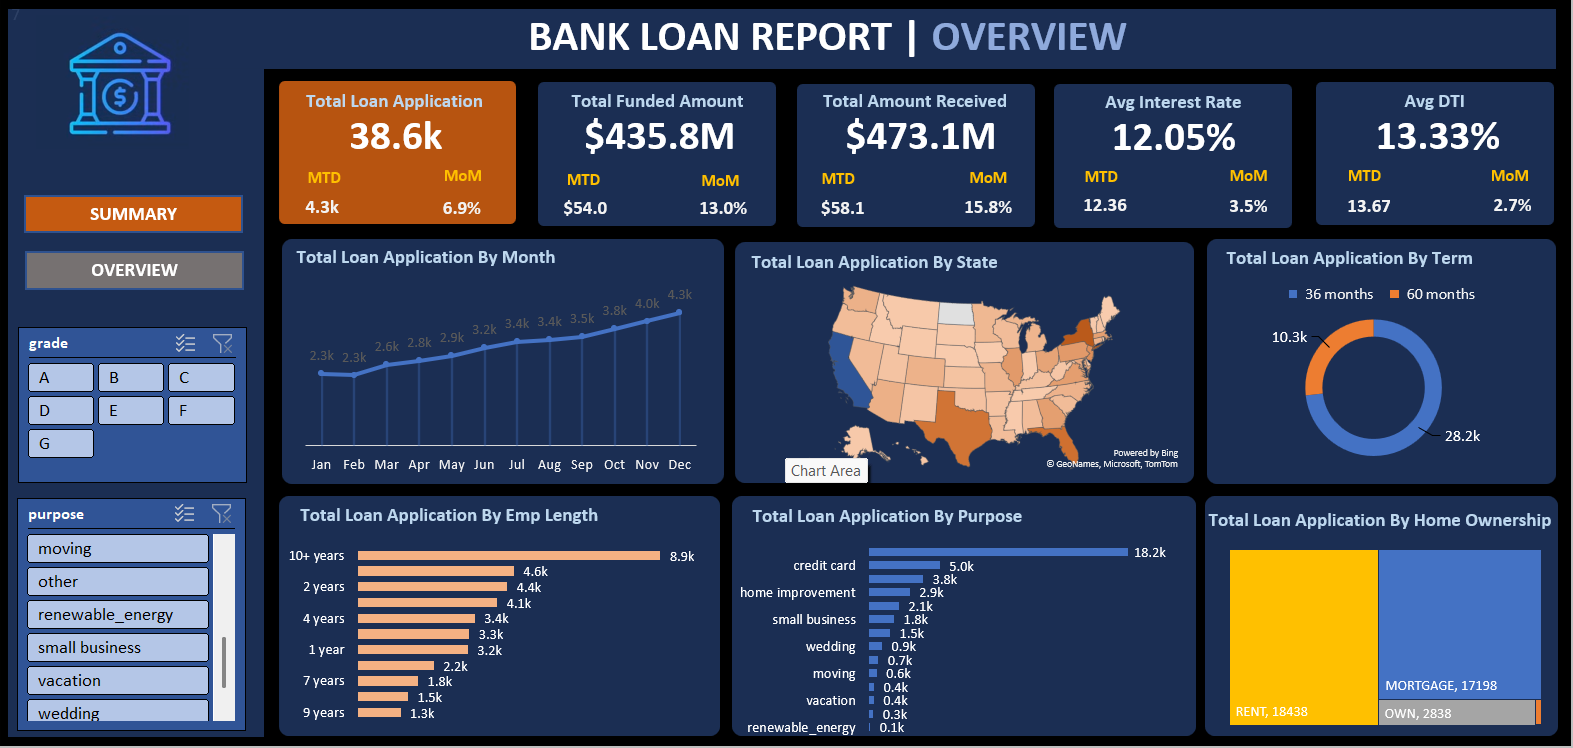

Layout of this report page (visuals, bound fields, positions):
{"tool":"powerbi","page":{"name":"Overview","canvas":[1280,720],"ordinal":1},"visuals":[{"type":"shape","box":[206.3,76,195.4,117],"z":0,"group":"g1"},{"type":"shape","box":[422,76,195.4,117],"z":0,"group":"g2"},{"type":"shape","box":[637.6,76,195.4,117],"z":0,"group":"g3"},{"type":"shape","box":[853.3,76,195.4,117],"z":0,"group":"g4"},{"type":"shape","box":[1068.9,76,195.4,117],"z":0,"group":"g5"},{"type":"shape","box":[206.3,212.3,400,235],"z":0},{"type":"shape","box":[0,0,1280.3,59],"z":1000},{"type":"card","fields":{"Values":["DAX Measures.Total Loan Application"]},"box":[206.3,92.9,195.4,59.1],"z":1000,"group":"g1"},{"type":"card","fields":{"Values":["DAX Measures.Total Funded Amount"]},"box":[422,92.9,195.4,59.1],"z":1000,"group":"g2"},{"type":"card","fields":{"Values":["DAX Measures.Total Amount Received"]},"box":[637.6,92.9,195.4,59.1],"z":1000,"group":"g3"},{"type":"card","fields":{"Values":["DAX Measures.Average Interest Rate"]},"box":[853.3,92.9,195.4,59.1],"z":1000,"group":"g4"},{"type":"card","fields":{"Values":["DAX Measures.Average DTI"]},"box":[1068.9,92.9,195.4,59.1],"z":1000,"group":"g5"},{"type":"shape","box":[0,59.1,192,661.1],"z":2000},{"type":"textbox","box":[206.3,76,195.4,33.8],"z":2000,"group":"g1"},{"type":"textbox","box":[422,76,195.4,33.8],"z":2000,"group":"g2"},{"type":"textbox","box":[637.6,76,195.4,33.8],"z":2000,"group":"g3"},{"type":"textbox","box":[853.3,76,195.4,33.8],"z":2000,"group":"g4"},{"type":"textbox","box":[1068.9,76,195.4,33.8],"z":2000,"group":"g5"},{"type":"textbox","box":[415,3.6,448.8,50.7],"z":3000},{"type":"card","title":"MTD","fields":{"Values":["DAX Measures.MTD Loan Application"]},"box":[206.3,143.6,76,49.5],"z":3000,"group":"g1"},{"type":"card","title":"MTD","fields":{"Values":["DAX Measures.MTD Funded Amount"]},"box":[422,143.6,76,49.5],"z":3000,"group":"g2"},{"type":"card","title":"MTD","fields":{"Values":["DAX Measures.MTD Total Amount Received"]},"box":[637.6,143.6,76,49.5],"z":3000,"group":"g3"},{"type":"card","title":"MTD","fields":{"Values":["DAX Measures.MTD Avg Int Rate"]},"box":[853.3,143.6,76,49.5],"z":3000,"group":"g4"},{"type":"card","title":"MTD","fields":{"Values":["DAX Measures.MTD Avg DTI"]},"box":[1068.9,143.6,76,49.5],"z":3000,"group":"g5"},{"type":"group","id":"g1","title":"Group 1","box":[206.3,76,195.4,117],"z":4000},{"type":"card","title":"MoM","fields":{"Values":["DAX Measures.MoM Loan Application"]},"box":[328.2,143.6,73.6,49.5],"z":4000,"group":"g1"},{"type":"card","title":"MoM","fields":{"Values":["DAX Measures.MoM Funded Amount"]},"box":[543.9,143.6,73.6,49.5],"z":4000,"group":"g2"},{"type":"card","title":"MoM","fields":{"Values":["DAX Measures.MoM Total Amount Received"]},"box":[759.5,143.6,73.6,49.5],"z":4000,"group":"g3"},{"type":"card","title":"MoM","fields":{"Values":["DAX Measures.MoM Avg Int Rate"]},"box":[975.2,143.6,73.6,49.5],"z":4000,"group":"g4"},{"type":"card","title":"MoM","fields":{"Values":["DAX Measures.MoM AVG DTI"]},"box":[1190.8,143.6,73.6,49.5],"z":4000,"group":"g5"},{"type":"group","id":"g2","title":"Group 1","box":[422,76,195.4,117],"z":5000},{"type":"group","id":"g3","title":"Group 1","box":[637.6,76,195.4,117],"z":6000},{"type":"group","id":"g4","title":"Group 1","box":[853.3,76,195.4,117],"z":7000},{"type":"group","id":"g5","title":"Group 1","box":[1068.9,76,195.4,117],"z":8000},{"type":"shape","box":[0,58.9,192,661.1],"z":9000},{"type":"slicer","fields":{"Values":["bank_loan_data.address_state"]},"box":[7.2,468.6,174.9,49.5],"z":10000},{"type":"textbox","box":[7.2,436,88.1,33.8],"z":11000},{"type":"slicer","fields":{"Values":["bank_loan_data.grade"]},"box":[7.2,559.1,174.9,49.5],"z":12000},{"type":"textbox","box":[7.2,525.3,88.1,33.8],"z":13000},{"type":"slicer","fields":{"Values":["bank_loan_data.Good v/s Bad Loan"]},"box":[7.2,654.4,174.9,49.5],"z":14000},{"type":"textbox","box":[7.2,620.6,174.9,33.8],"z":15000},{"type":"areaChart","fields":{"Y":["DAX Measures.Total Loan Application"],"Category":["Date Table.Month"]},"box":[206.3,212.3,388.5,235.3],"z":16000},{"type":"slicer","fields":{"Values":["Select Measure.Select Measure"]},"box":[8.4,372.1,174.9,51.9],"z":17000},{"type":"textbox","box":[7.2,338.3,147.2,33.8],"z":18000},{"type":"shape","box":[617.7,212.3,360,235.3],"z":19000},{"type":"shapeMap","fields":{"Value":["DAX Measures.Total Loan Application"],"Category":["bank_loan_data.address_state"]},"box":[617.7,212.3,357.1,235.3],"z":20000},{"type":"shape","box":[988.1,211.1,276.3,235.3],"z":21000},{"type":"donutChart","fields":{"Y":["DAX Measures.Total Loan Application"],"Category":["bank_loan_data.term"]},"box":[988.1,212.3,276.3,235.3],"z":22000},{"type":"shape","box":[206.3,458.4,400.5,252.1],"z":23000},{"type":"barChart","fields":{"Y":["DAX Measures.Total Loan Application"],"Category":["bank_loan_data.emp_length"]},"box":[206.3,459.7,400.5,250.9],"z":24000},{"type":"shape","box":[617.7,458.4,360.7,252.1],"z":25000},{"type":"barChart","fields":{"Y":["DAX Measures.Total Loan Application"],"Category":["bank_loan_data.purpose"]},"box":[617.7,460.9,357.1,250.9],"z":26000},{"type":"shape","box":[988.1,458.4,276.3,252.1],"z":27000},{"type":"treemap","fields":{"Values":["DAX Measures.Total Loan Application"],"Group":["bank_loan_data.home_ownership"]},"box":[988.1,458.4,276.3,252.1],"z":28000},{"type":"pageNavigator","box":[7.2,162.9,174.9,166.5],"z":28001},{"type":"image","box":[0,0,183.4,143.6],"z":28002}]}

Visuals, with their boxes on the page's 1280x720 design canvas (x1, y1, x2, y2). These are canvas units, not pixel positions in the 1573x748 screenshot, which may show the page scaled, cropped or inside an application window:
shape: 206,76,402,193
shape: 422,76,617,193
shape: 638,76,833,193
shape: 853,76,1049,193
shape: 1069,76,1264,193
shape: 206,212,606,447
shape: 0,0,1280,59
card - DAX Measures.Total Loan Application: 206,93,402,152
card - DAX Measures.Total Funded Amount: 422,93,617,152
card - DAX Measures.Total Amount Received: 638,93,833,152
card - DAX Measures.Average Interest Rate: 853,93,1049,152
card - DAX Measures.Average DTI: 1069,93,1264,152
shape: 0,59,192,720
textbox: 206,76,402,110
textbox: 422,76,617,110
textbox: 638,76,833,110
textbox: 853,76,1049,110
textbox: 1069,76,1264,110
textbox: 415,4,864,54
"MTD" card: 206,144,282,193
"MTD" card: 422,144,498,193
"MTD" card: 638,144,714,193
"MTD" card: 853,144,929,193
"MTD" card: 1069,144,1145,193
"Group 1" group: 206,76,402,193
"MoM" card: 328,144,402,193
"MoM" card: 544,144,618,193
"MoM" card: 760,144,833,193
"MoM" card: 975,144,1049,193
"MoM" card: 1191,144,1264,193
"Group 1" group: 422,76,617,193
"Group 1" group: 638,76,833,193
"Group 1" group: 853,76,1049,193
"Group 1" group: 1069,76,1264,193
shape: 0,59,192,720
slicer - bank_loan_data.address_state: 7,469,182,518
textbox: 7,436,95,470
slicer - bank_loan_data.grade: 7,559,182,609
textbox: 7,525,95,559
slicer - bank_loan_data.Good v/s Bad Loan: 7,654,182,704
textbox: 7,621,182,654
areaChart - DAX Measures.Total Loan Application x Date Table.Month: 206,212,595,448
slicer - Select Measure.Select Measure: 8,372,183,424
textbox: 7,338,154,372
shape: 618,212,978,448
shapeMap - DAX Measures.Total Loan Application x bank_loan_data.address_state: 618,212,975,448
shape: 988,211,1264,446
donutChart - DAX Measures.Total Loan Application x bank_loan_data.term: 988,212,1264,448
shape: 206,458,607,710
barChart - DAX Measures.Total Loan Application x bank_loan_data.emp_length: 206,460,607,711
shape: 618,458,978,710
barChart - DAX Measures.Total Loan Application x bank_loan_data.purpose: 618,461,975,712
shape: 988,458,1264,710
treemap - DAX Measures.Total Loan Application x bank_loan_data.home_ownership: 988,458,1264,710
pageNavigator: 7,163,182,329
image: 0,0,183,144
